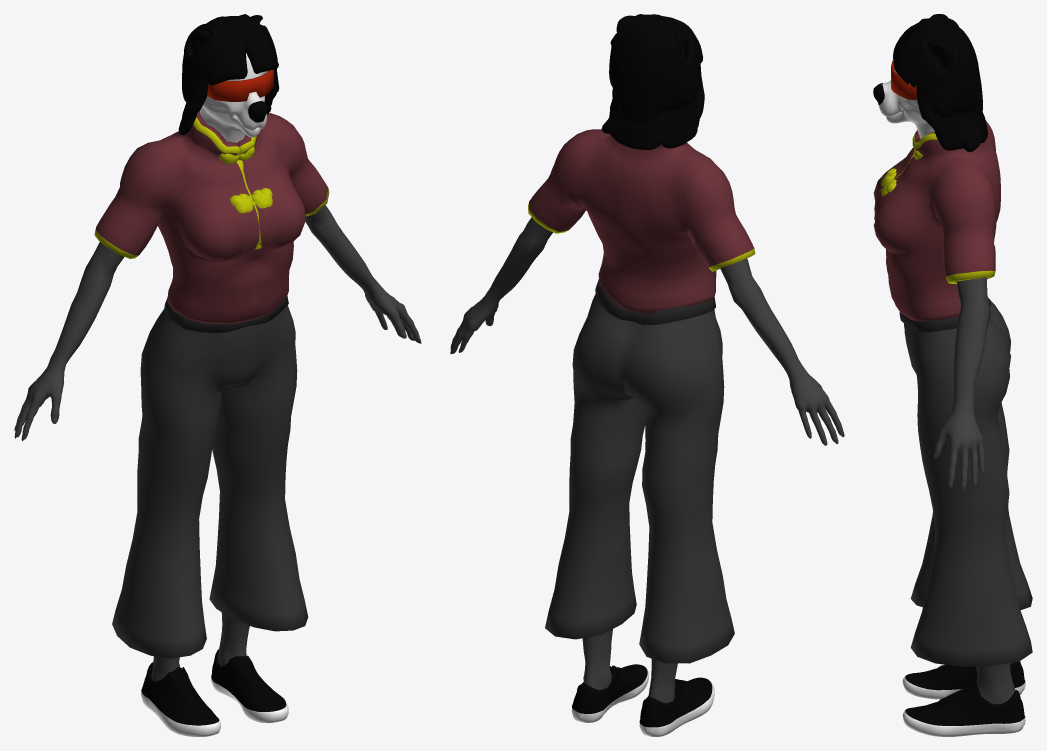
File: тело +---.fbx
3 renders of one model, left to right at view 1: azimuth 30°, elevation 25°; view 2: azimuth 150°, elevation 25°; view 3: azimuth 270°, elevation 25°, orthographic. The views are drawn at different scales.
Parts seen in each view (by area): view 1: лицо с волосами; view 2: лицо с волосами; view 3: лицо с волосами.
Part boxes in pixels (x1,y1,x2,y2): лицо с волосами: (14, 14, 421, 736); лицо с волосами: (450, 14, 844, 736); лицо с волосами: (873, 14, 1032, 736).
Size of the model in its own units: 250 by 420 by 88.43.
